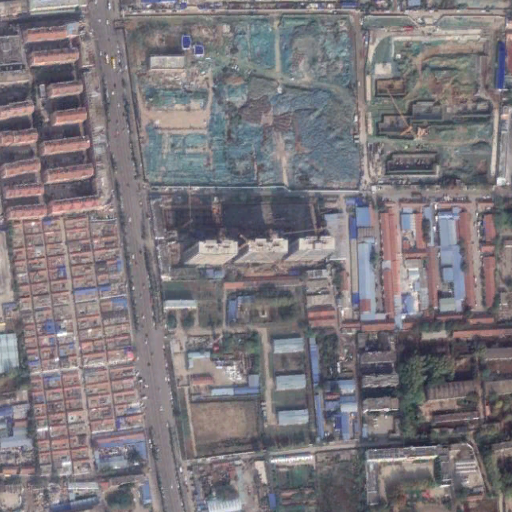cw: (124, 10, 355, 192), (365, 16, 496, 191)
